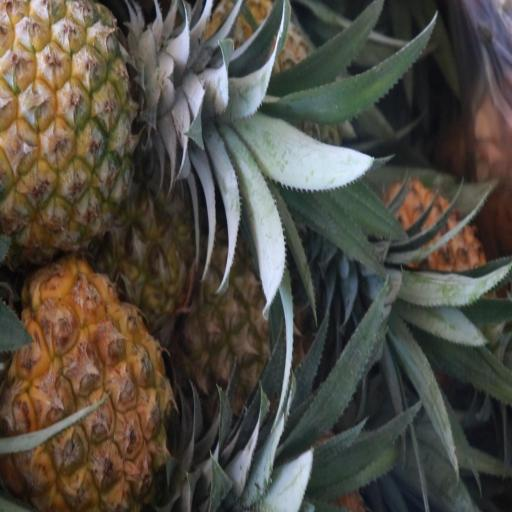Pineapple - v8 v1: (1, 264, 169, 512), (0, 0, 162, 239), (180, 231, 307, 427)
